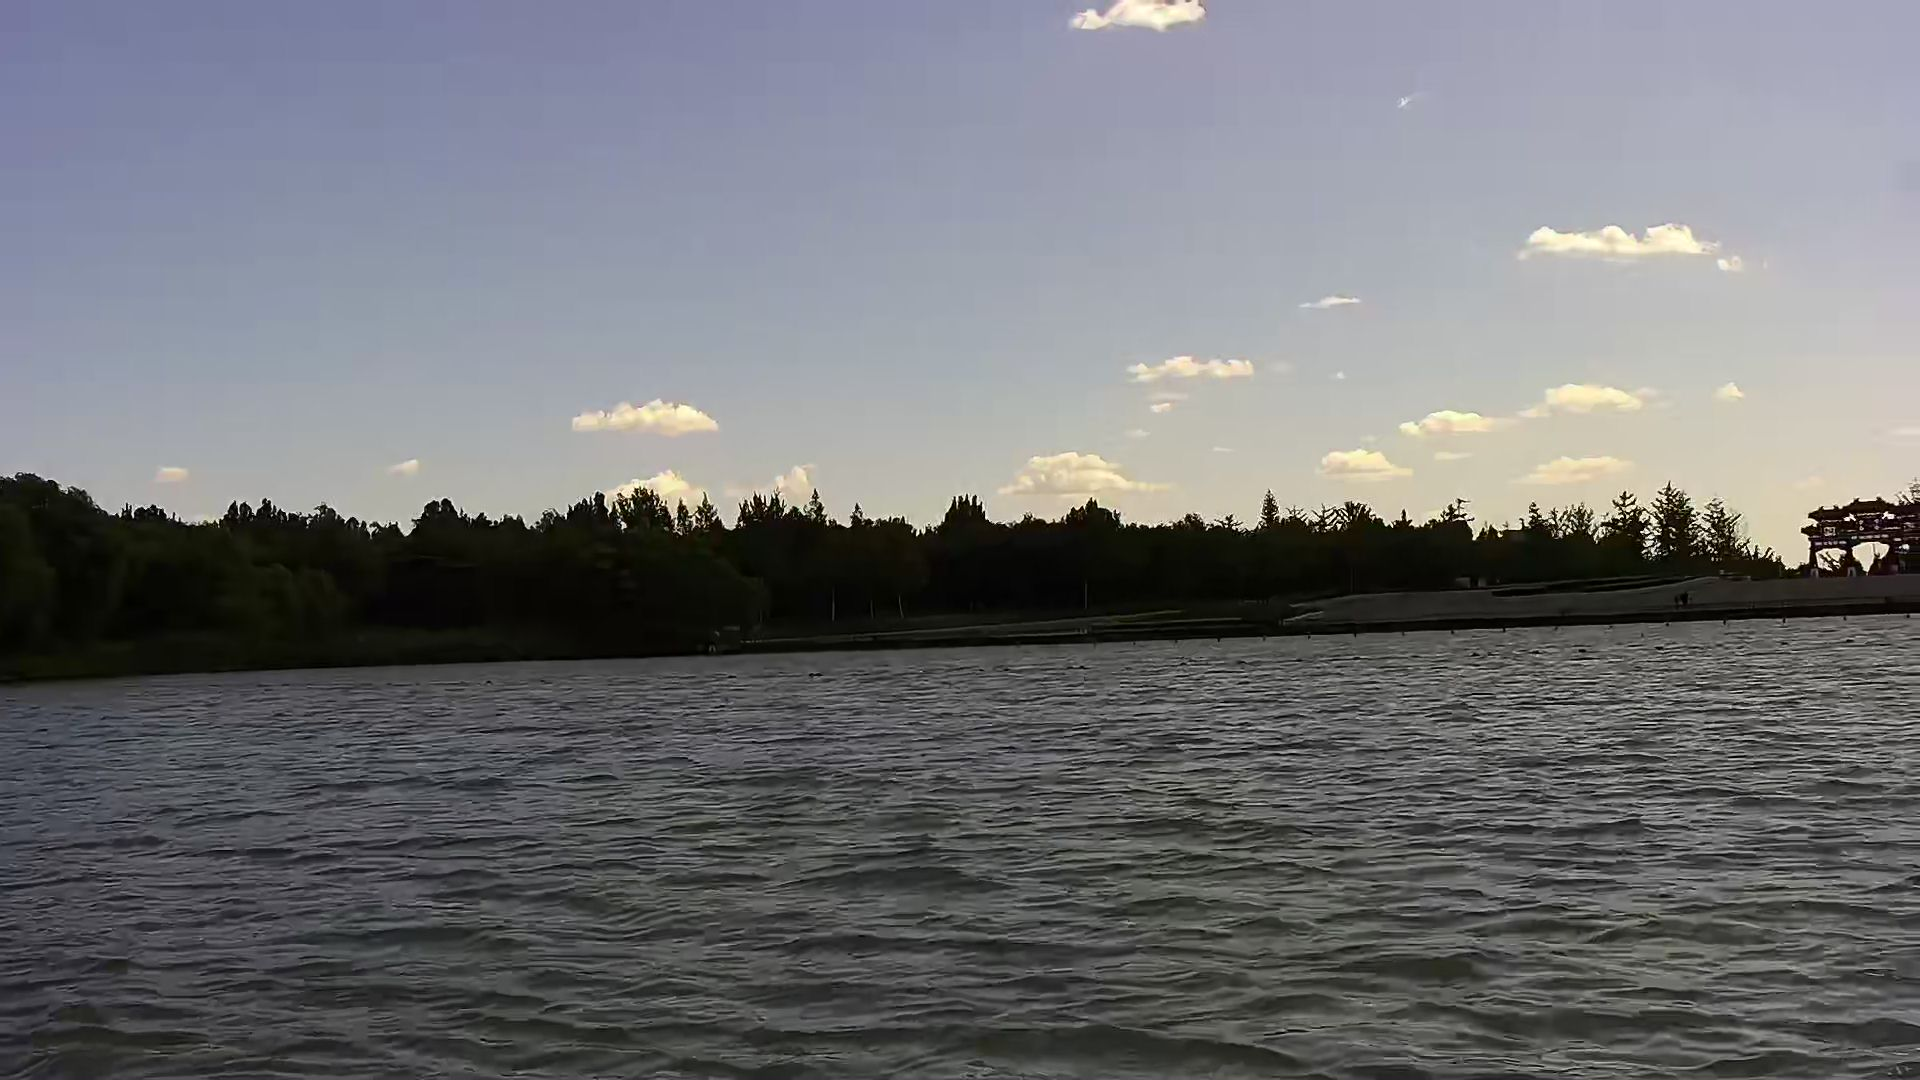harbor: (738, 560, 1920, 659)
